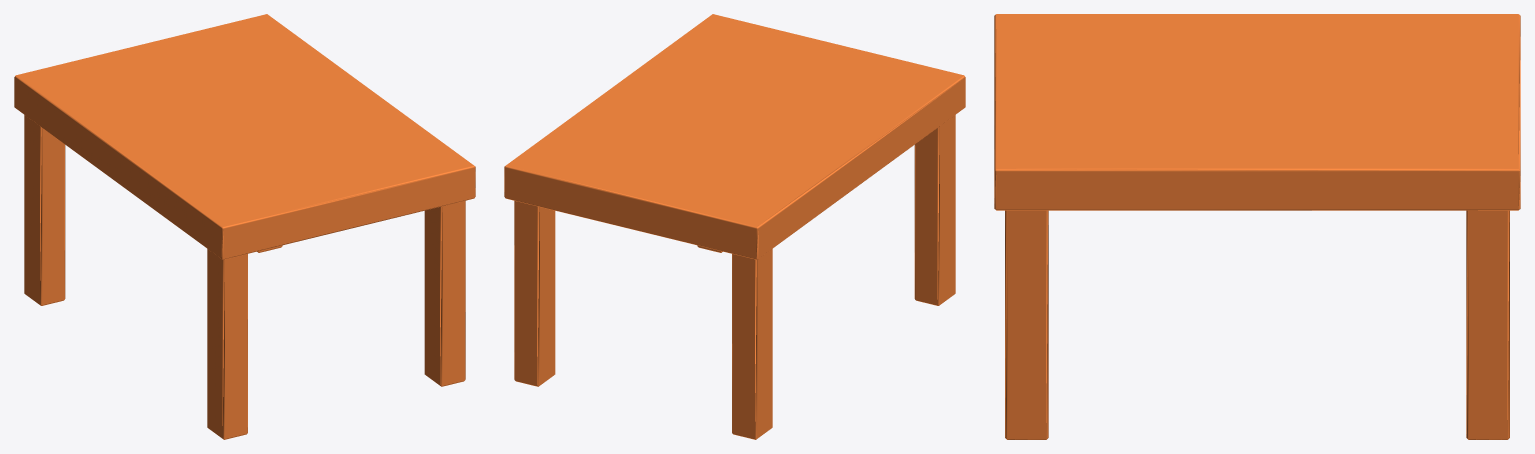
The model's file is meja.obj.
The picture shows the model from 3 angles, left to right: view 1: azimuth 30°, elevation 25°; view 2: azimuth 150°, elevation 25°; view 3: azimuth 270°, elevation 25°; orthographic projection. The views are drawn at different scales.
Parts seen in each view (by area): view 1: Table.001_Cube.074; view 2: Table.001_Cube.074; view 3: Table.001_Cube.074.
Boxes of the visible parts, x1,y1,x2,y2 form: Table.001_Cube.074: (14, 14, 475, 439); Table.001_Cube.074: (504, 14, 965, 439); Table.001_Cube.074: (994, 14, 1520, 439).
Size of the model in its own units: 1.71 by 1.4 by 2.43.
